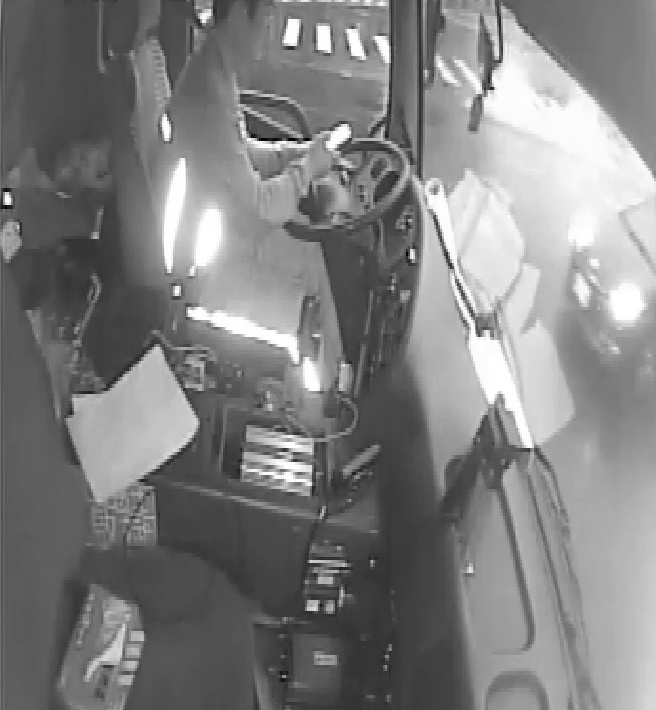cellphone: (305, 118, 354, 164)
